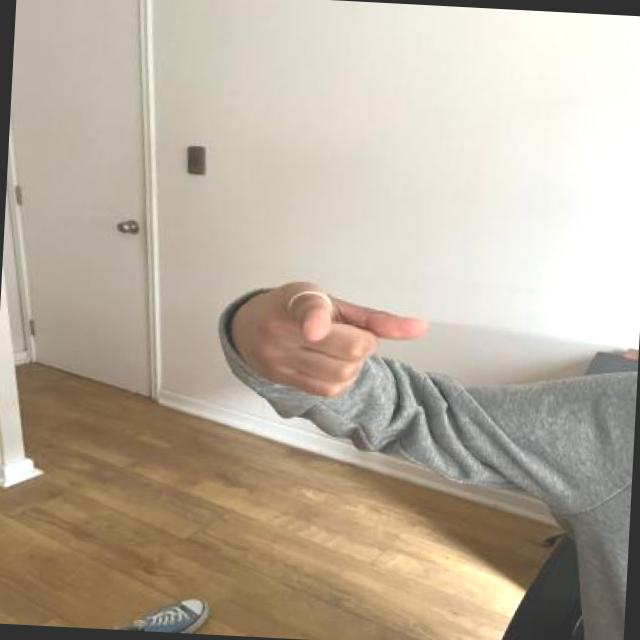X: (224, 269, 430, 406)
